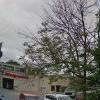Tree: (33, 0, 100, 77)
